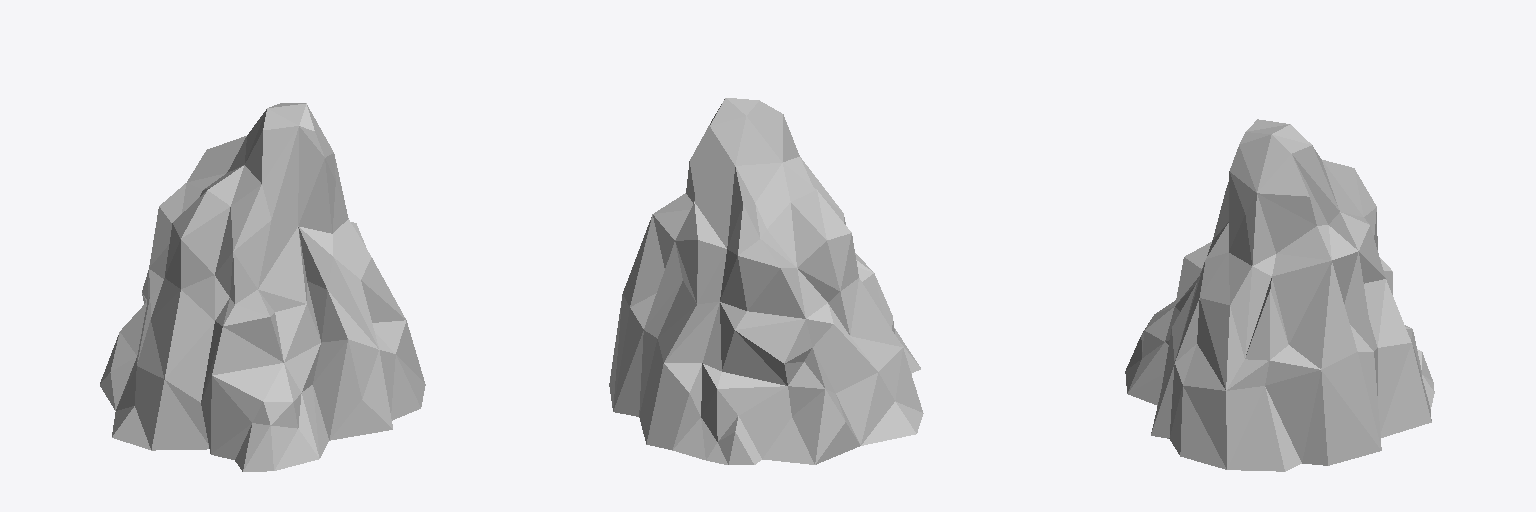
The model's file is rock_002_LOD2.obj.
The picture shows the model from 3 angles: view 1: azimuth 30°, elevation 25°; view 2: azimuth 150°, elevation 25°; view 3: azimuth 270°, elevation 25°; orthographic projection.
Parts seen in each view (by area): view 1: rock_002_LOD2 rock_002; view 2: rock_002_LOD2 rock_002; view 3: rock_002_LOD2 rock_002.
Boxes of the visible parts, box(x1,y1,x2,y2) form: rock_002_LOD2 rock_002: box(100, 103, 425, 471); rock_002_LOD2 rock_002: box(609, 98, 923, 464); rock_002_LOD2 rock_002: box(1125, 119, 1434, 471).
Size of the model in its own units: 1267 by 1191 by 1158.